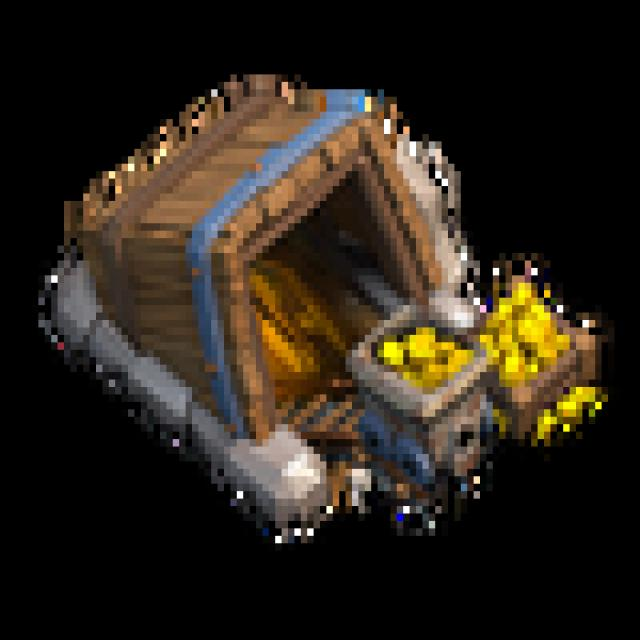gold_mine: (30, 52, 628, 588)
